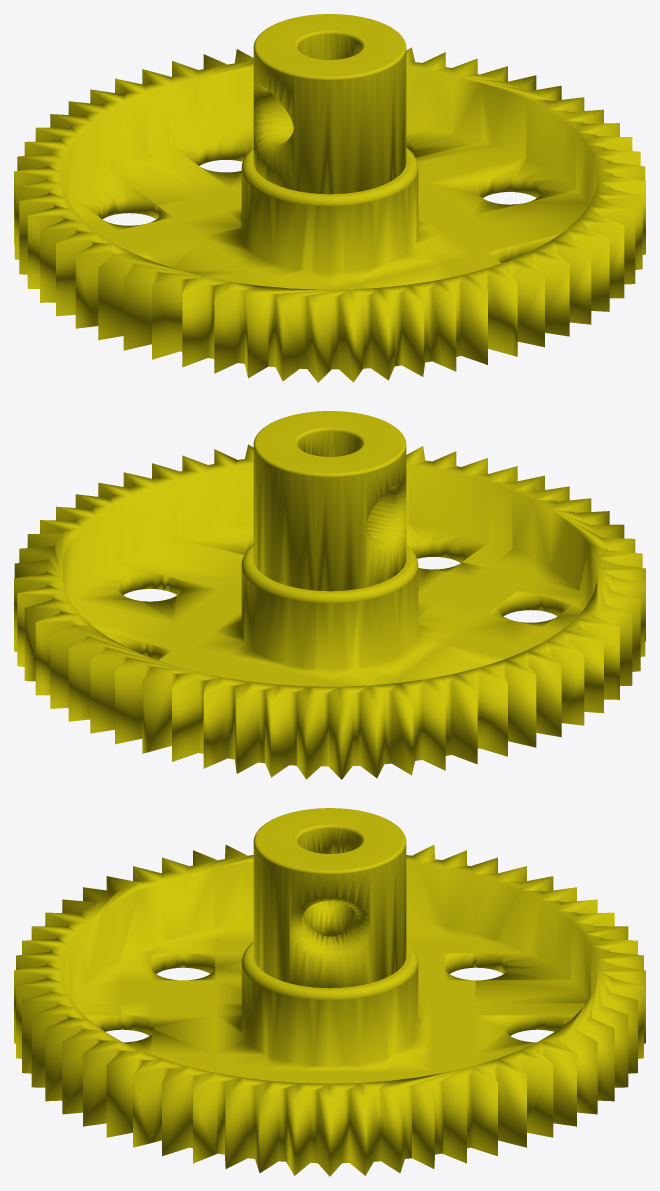
Rendered from SpurGear(S).glb.
3 views of the same model, one above another, from view 1: azimuth 30°, elevation 25°; view 2: azimuth 150°, elevation 25°; view 3: azimuth 270°, elevation 25° (orthographic).
Visible parts, largest first — view 1: defaultobject; view 2: defaultobject; view 3: defaultobject.
Part boxes in pixels (left/top/right/bottom): defaultobject: left=14, top=14, right=645, bottom=382; defaultobject: left=14, top=411, right=645, bottom=779; defaultobject: left=14, top=808, right=645, bottom=1176.
Bounding box in the file's own units: 97.86 × 34.86 × 97.86.
